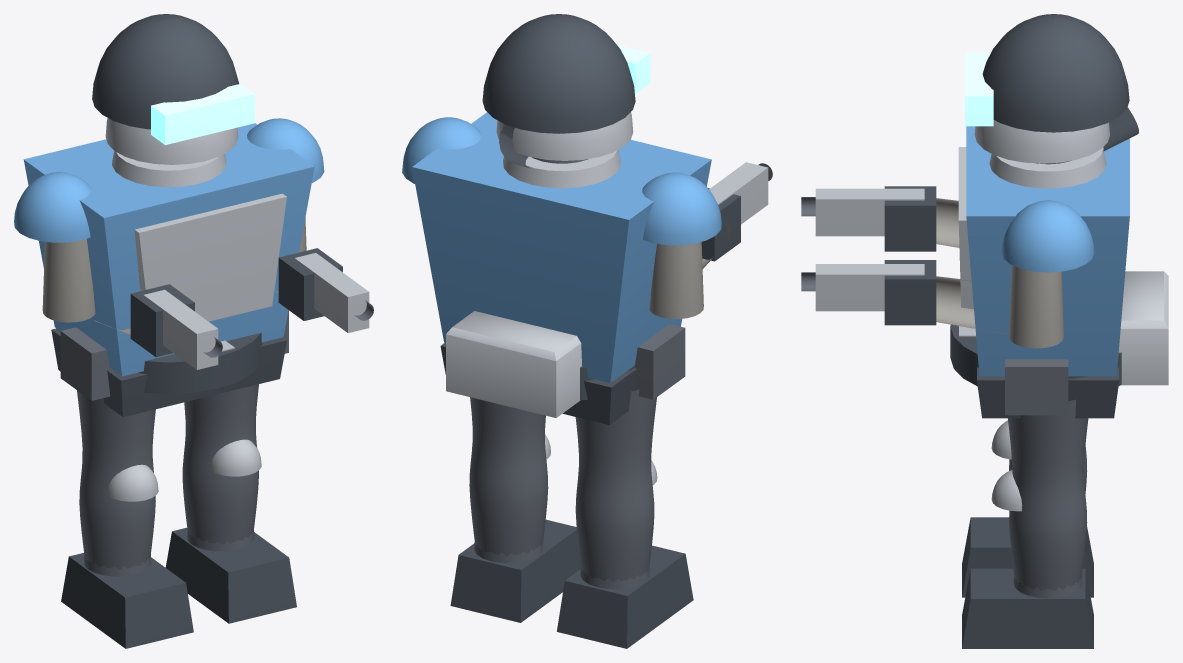
Rendered from tany.glb.
The picture shows the model from 3 angles, left to right: view 1: azimuth 30°, elevation 25°; view 2: azimuth 150°, elevation 25°; view 3: azimuth 270°, elevation 25°; orthographic projection. The views are drawn at different scales.
Parts seen in each view (by area): view 1: Hull; view 2: Hull; view 3: Hull.
Boxes of the visible parts, left/top/right/bottom form: Hull: left=14, top=14, right=373, bottom=648; Hull: left=402, top=14, right=772, bottom=648; Hull: left=801, top=14, right=1168, bottom=648.
Size of the model in its own units: 0.5821 by 1.07 by 0.608.
